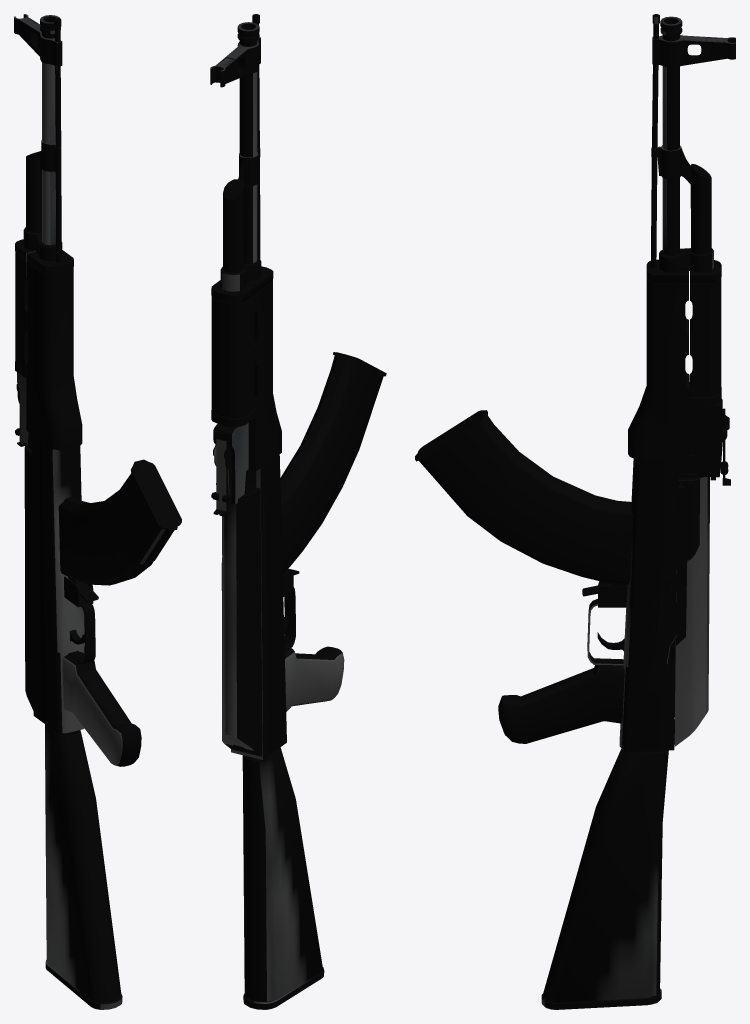
3 renders of one model, left to right at view 1: azimuth 30°, elevation 25°; view 2: azimuth 150°, elevation 25°; view 3: azimuth 270°, elevation 25°, orthographic. The views are drawn at different scales.
Visible parts, largest first — view 1: asset_AK47.001; view 2: asset_AK47.001; view 3: asset_AK47.001.
Part boxes in pixels (<box>): asset_AK47.001: <box>14,14,181,1009</box>; asset_AK47.001: <box>210,14,386,1009</box>; asset_AK47.001: <box>415,14,735,1009</box>.
Size of the model in its own units: 0.0241 by 0.528 by 0.1555.
